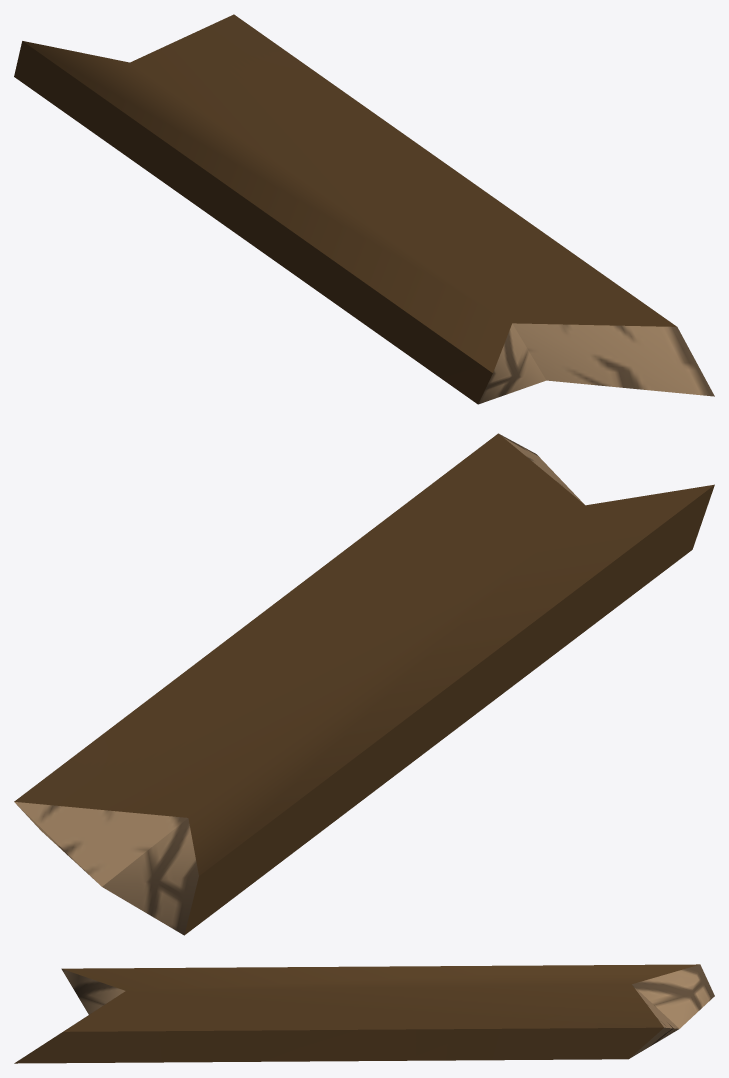
Rendered from FX_wood_A.FBX.
The picture shows the model from 3 angles, top to bottom: view 1: azimuth 30°, elevation 25°; view 2: azimuth 150°, elevation 25°; view 3: azimuth 270°, elevation 25°; orthographic projection. The views are drawn at different scales.
Parts seen in each view (by area): view 1: FX_wood_A; view 2: FX_wood_A; view 3: FX_wood_A.
Part boxes in pixels (x1,y1,x2,y2): FX_wood_A: [14, 14, 714, 404]; FX_wood_A: [14, 433, 714, 935]; FX_wood_A: [14, 964, 714, 1063].
Bounding box in the file's own units: 18.48 × 3.91 × 80.3.
Materials: 1 (1 with a texture image).
